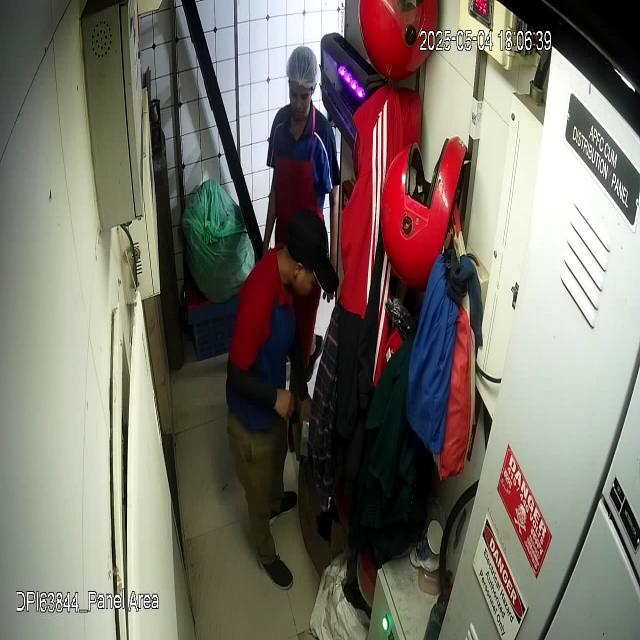helmet: (378, 137, 469, 287)
